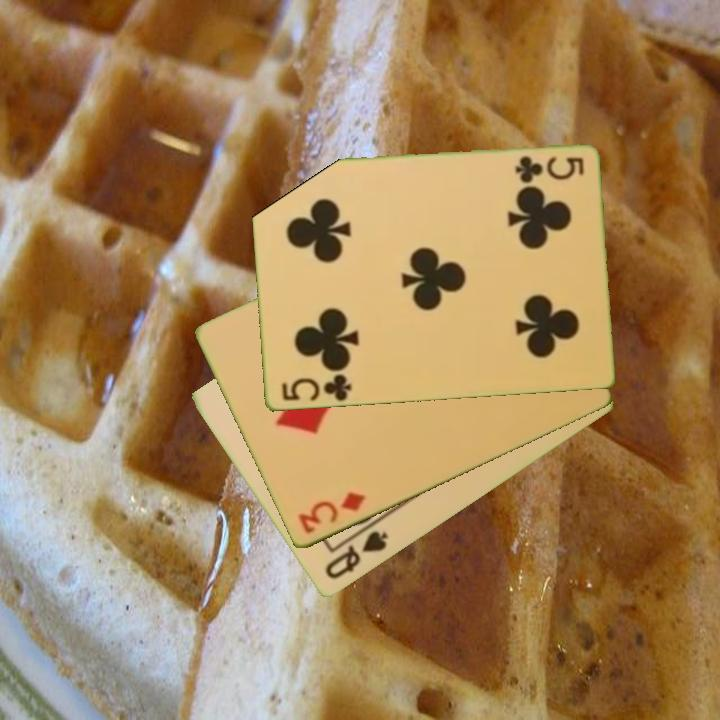3d: (294, 488, 369, 538)
5c: (277, 371, 354, 404), (511, 153, 586, 185)
Qs: (321, 527, 392, 583)
